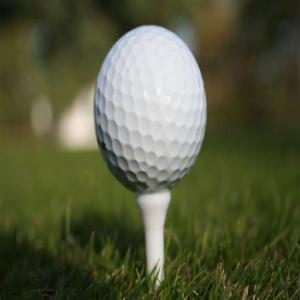Golf: (97, 23, 208, 189)
